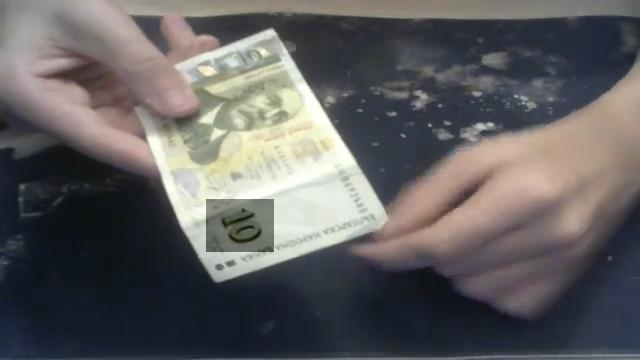10leva: (207, 200, 274, 252)
